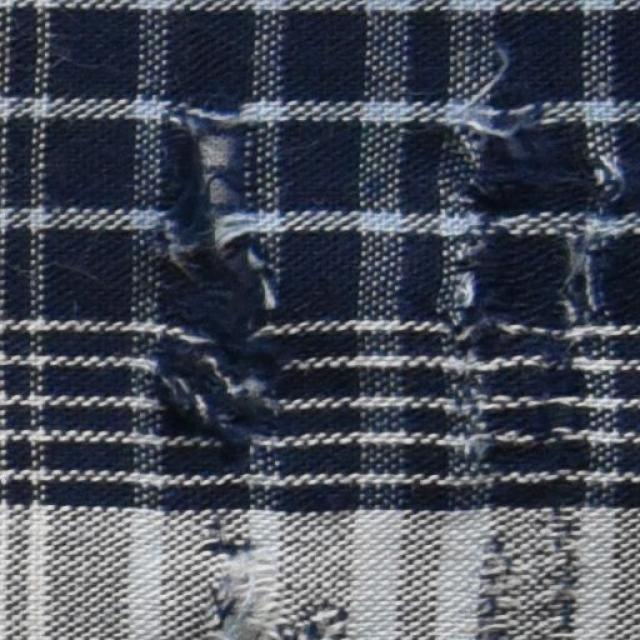Snag: (148, 94, 292, 473), (407, 50, 639, 233), (469, 227, 585, 355), (186, 505, 287, 639), (280, 592, 353, 639)
